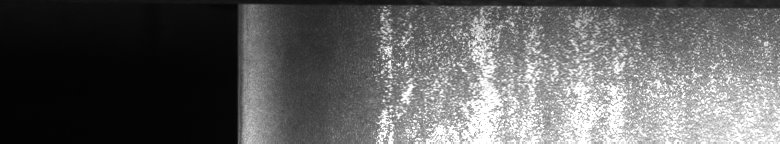kb: (355, 4, 776, 136)
